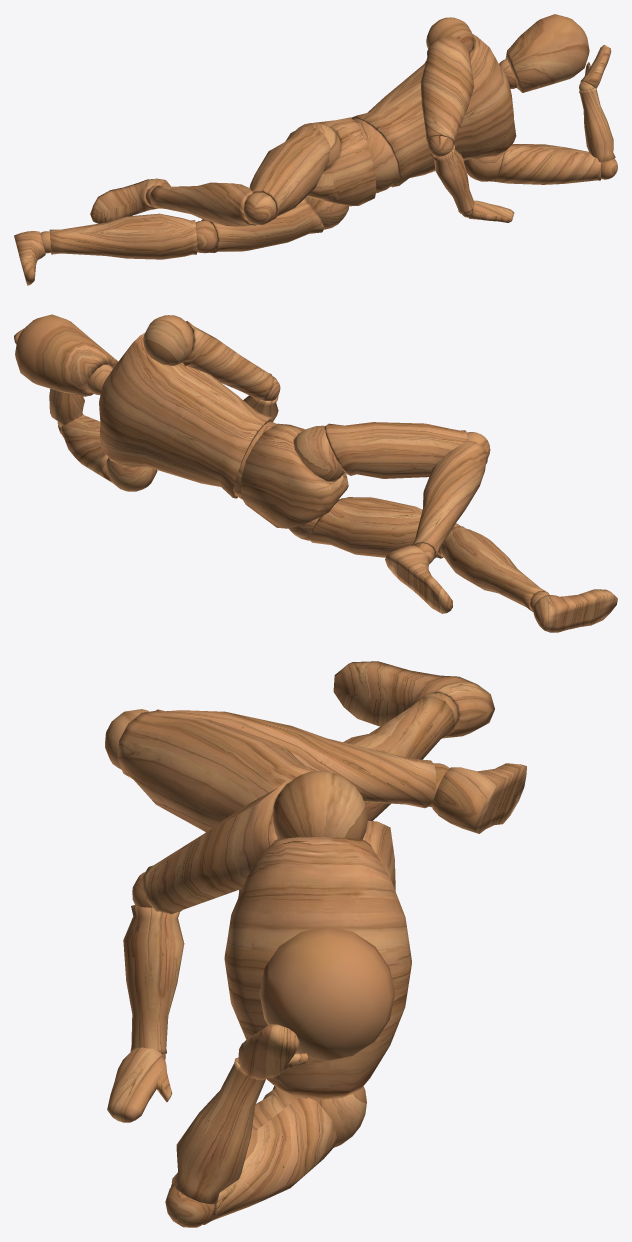
Rendered from 346.parts.obj.
3 renders of one model, top to bottom at view 1: azimuth 30°, elevation 25°; view 2: azimuth 150°, elevation 25°; view 3: azimuth 270°, elevation 25°, orthographic. The views are drawn at different scales.
Visible parts, largest first — view 1: chest/back_25, right_shin_11, left_thigh_6, head_1, left_arm_3, right_thigh_10, butt_21, right_arm_8, left_shin_5, left_foot_13, right_forearm_26, left_forearm_27 (+9 smaller); view 2: chest/back_25, left_thigh_6, butt_21, right_thigh_10, head_1, left_shin_5, right_shin_11, left_arm_3, right_foot_14, left_foot_13, left_shoulder_22, right_arm_8 (+5 smaller); view 3: chest/back_25, left_thigh_6, head_1, left_arm_3, right_arm_8, left_shin_5, right_forearm_26, right_foot_14, left_forearm_27, left_shoulder_22, left_foot_13, right_shin_11 (+6 smaller).
Part boxes in pixels (x1,y1,x2,y2): chest/back_25: (351,34,516,187); right_shin_11: (49,213,197,259); left_thigh_6: (249,123,340,221); head_1: (505,14,589,92); left_arm_3: (420,35,474,144); right_thigh_10: (201,196,349,252); butt_21: (307,117,376,206); right_arm_8: (490,144,601,184); left_shin_5: (150,182,255,226); left_foot_13: (90,178,170,223); right_forearm_26: (579,88,615,162); left_forearm_27: (431,145,474,213); chest/back_25: (99,333,272,498); left_thigh_6: (293,422,467,481); butt_21: (241,423,348,528); right_thigh_10: (289,497,442,558); head_1: (15,314,118,396); left_shin_5: (412,440,487,558); right_shin_11: (439,526,548,611); left_arm_3: (182,321,273,400); right_foot_14: (533,589,617,632); left_foot_13: (385,545,452,613); left_shoulder_22: (143,315,193,365); right_arm_8: (60,414,111,482); chest/back_25: (224,837,411,1099); left_thigh_6: (117,710,313,831); head_1: (259,927,394,1060); left_arm_3: (142,781,290,914); right_arm_8: (171,1088,336,1224); left_shin_5: (156,709,436,808); right_forearm_26: (171,1057,266,1204); right_foot_14: (333,661,494,738); left_forearm_27: (123,905,184,1053); left_shoulder_22: (273,771,367,839); left_foot_13: (432,763,526,833); right_shin_11: (343,696,454,820).
Bounding box in the file's own units: 1.82 × 0.5419 × 0.5825.
Materials: 1 (1 with a texture image).
